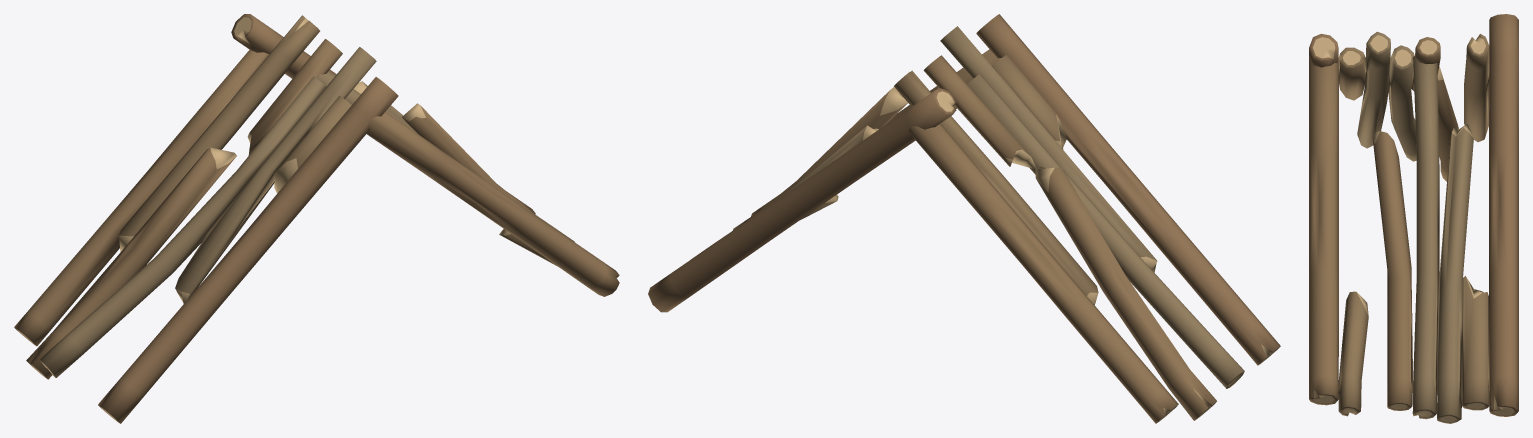
File: rpgpp_av_roof_01_6x3x3_b.gltf
3 views of the same model, side by side, from view 1: azimuth 30°, elevation 25°; view 2: azimuth 150°, elevation 25°; view 3: azimuth 270°, elevation 25° (orthographic). The views are drawn at different scales.
Parts seen in each view (by area): view 1: rpgpp_av_roof_01_6x3x3_b; view 2: rpgpp_av_roof_01_6x3x3_b; view 3: rpgpp_av_roof_01_6x3x3_b.
Boxes of the visible parts, x1,y1,x2,y2 form: rpgpp_av_roof_01_6x3x3_b: [14, 14, 619, 423]; rpgpp_av_roof_01_6x3x3_b: [648, 14, 1280, 423]; rpgpp_av_roof_01_6x3x3_b: [1309, 14, 1518, 423].
Bounding box in the file's own units: 0.0874 × 0.0449 × 0.03.
Materials: 1 (1 with a texture image).
